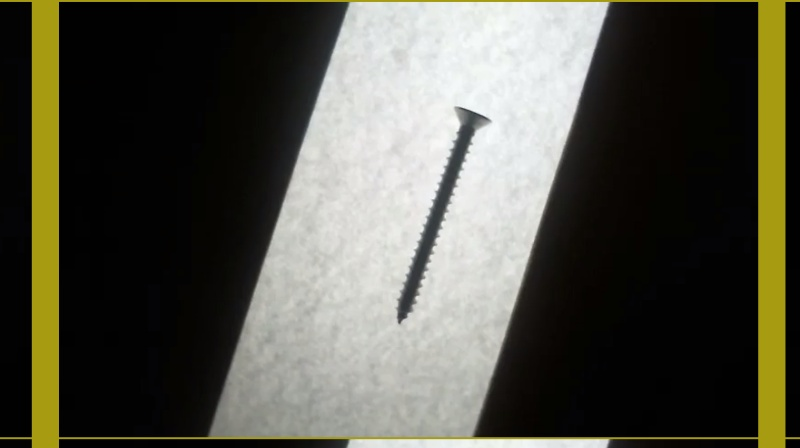S002: (392, 100, 493, 325)
